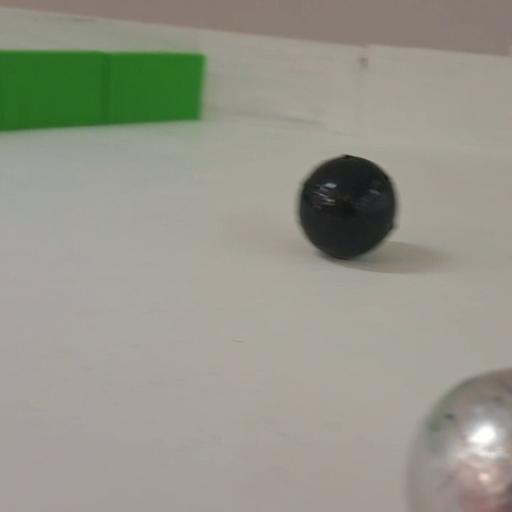alive: (402, 369, 511, 509)
dead: (296, 155, 400, 258)
